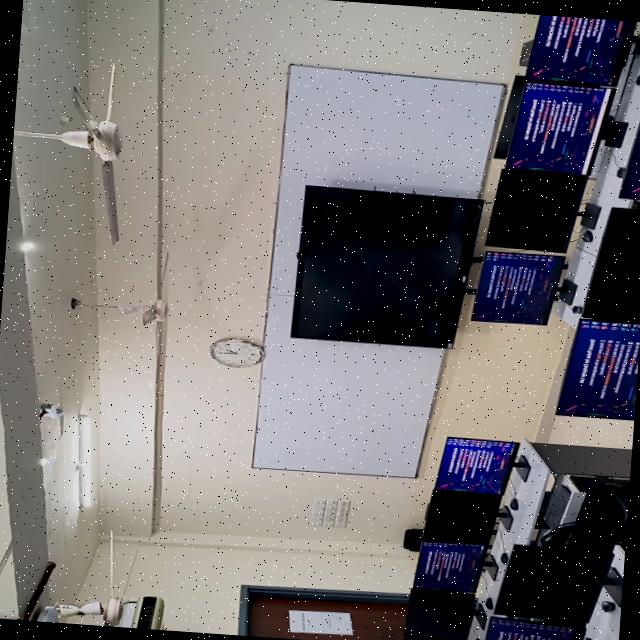Ac: (114, 595, 162, 630)
Chair: (537, 483, 629, 549), (401, 528, 421, 551)
Digital board: (290, 185, 481, 347)
Light: (74, 414, 90, 507), (18, 241, 33, 251), (37, 457, 47, 467)
Monitor: (505, 82, 613, 174), (492, 544, 612, 624), (484, 165, 586, 253), (555, 319, 640, 420), (526, 15, 634, 85), (470, 250, 564, 325), (581, 207, 640, 323), (435, 437, 514, 494), (421, 489, 499, 544), (412, 542, 483, 593), (403, 589, 474, 640), (492, 75, 524, 159), (482, 616, 584, 640), (619, 119, 640, 200)
Mouse: (599, 600, 614, 612), (579, 229, 591, 242), (508, 498, 517, 510), (570, 305, 582, 313), (498, 552, 506, 564), (483, 597, 491, 609), (633, 73, 640, 85)
